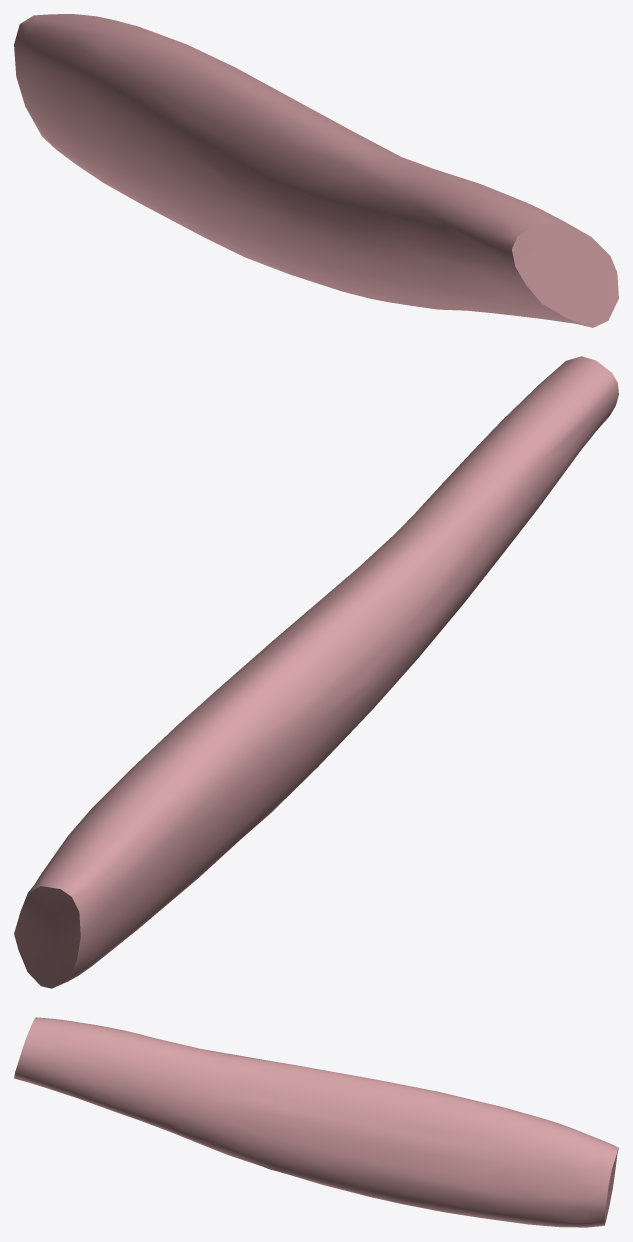
Rendered from fma319843_mm2211m.glb.
The picture shows the model from 3 angles, top to bottom: view 1: azimuth 30°, elevation 25°; view 2: azimuth 150°, elevation 25°; view 3: azimuth 270°, elevation 25°; orthographic projection. The views are drawn at different scales.
Parts seen in each view (by area): view 1: FMA319843_MM2211M; view 2: FMA319843_MM2211M; view 3: FMA319843_MM2211M.
Boxes of the visible parts, x1,y1,x2,y2 form: FMA319843_MM2211M: (14,14,618,327); FMA319843_MM2211M: (14,356,618,988); FMA319843_MM2211M: (14,1017,618,1227).
Size of the model in its own units: 0.00413 by 0.00834 by 0.0248.
